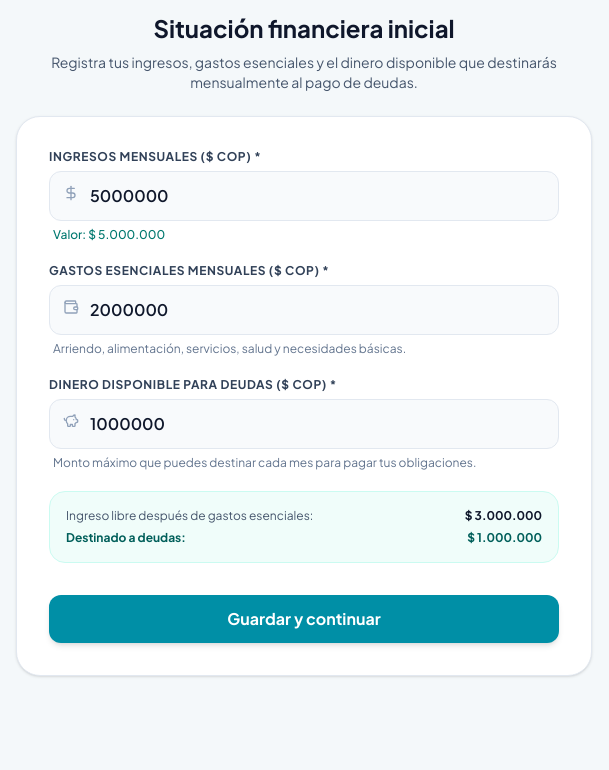
EP-05 Step Components › HU-018: FinancialSituationStep renders and validates inputs
Expected: the heading "Situación financiera inicial" is shown, [153,13,455,43]
Step 1. Replace the text in the number field labelled "Ingresos mensuales ($ COP) *" with "2000000" → (304, 196), box [49,171,559,221]
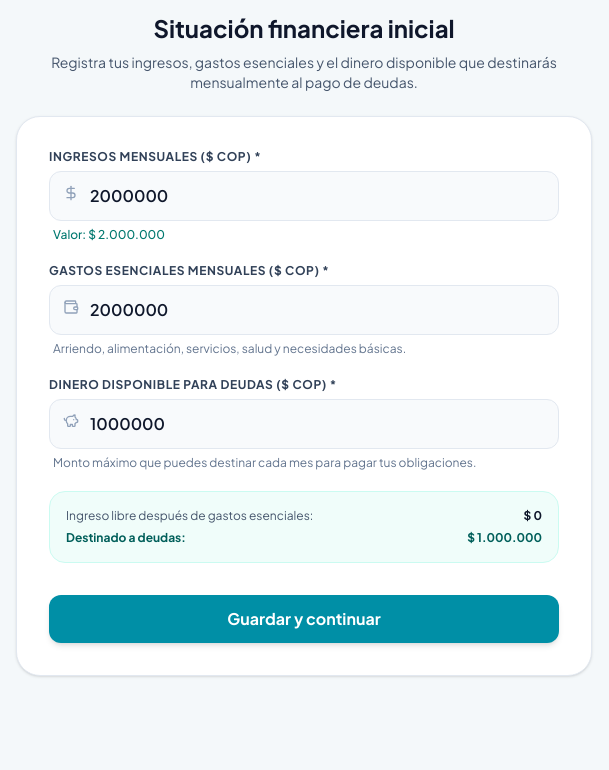
Step 2. Replace the text in the number field labelled "Gastos esenciales mensuales ($ COP) *" with "3000000" → (304, 310), box [49,285,559,335]
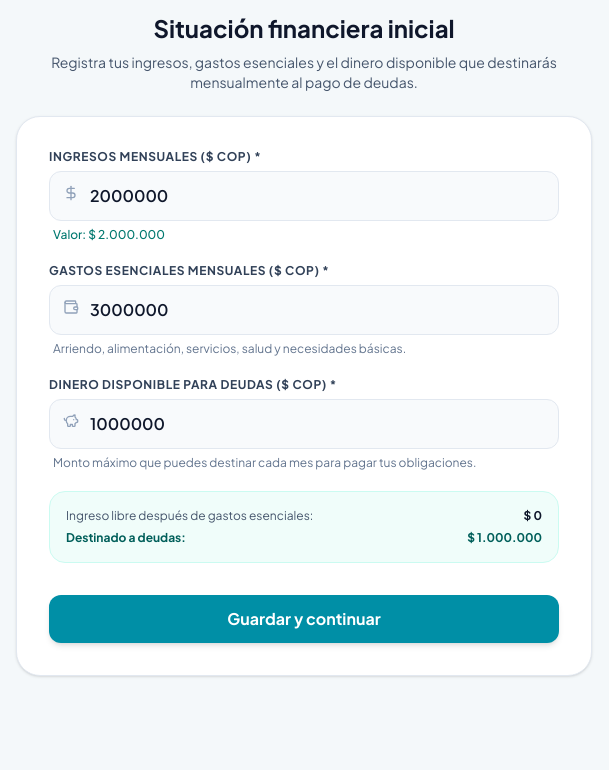
Step 3. Submit the form named "Guardar y continuar"
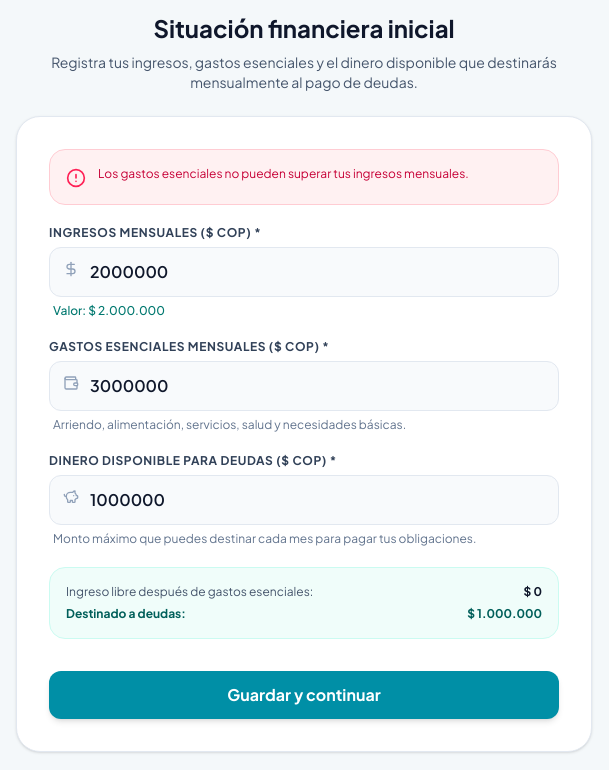
Now the text "gastos esenciales no pueden superar" is shown, box [98,166,469,181]
